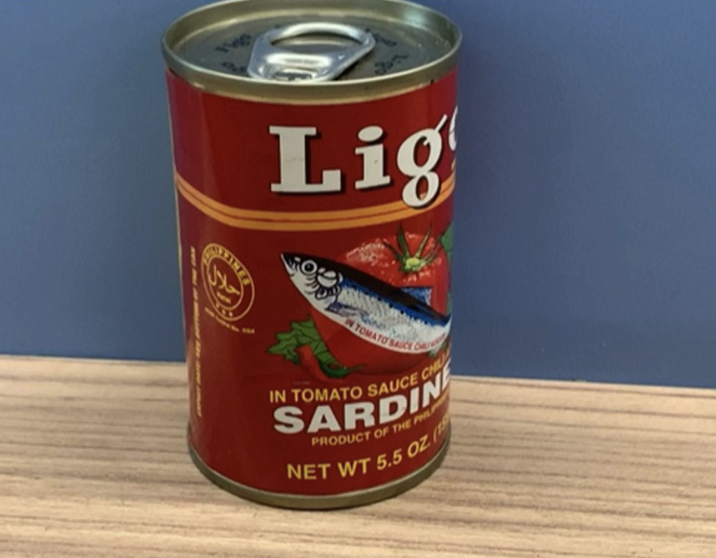sardines_150g: (186, 37, 450, 473)
